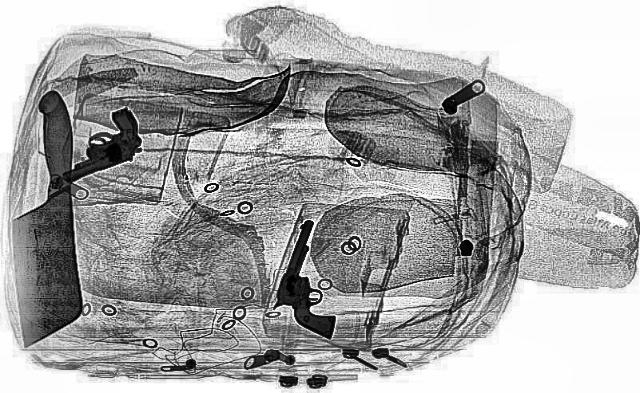Gun: (262, 218, 370, 338), (26, 106, 172, 182)
Knife: (0, 89, 84, 347)
